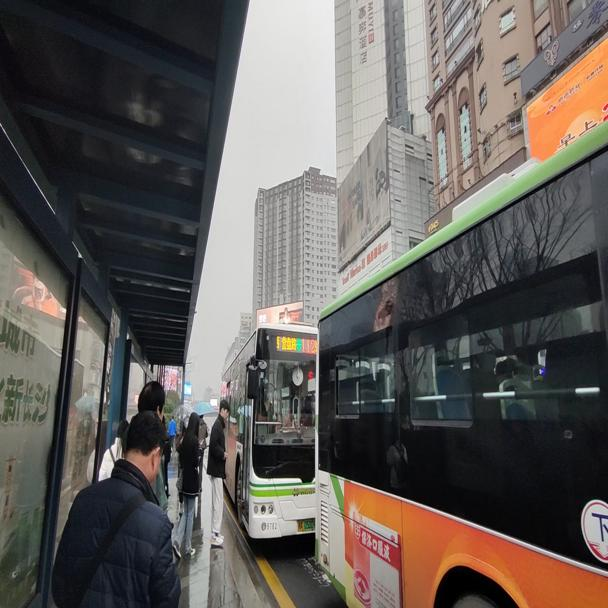bus: (318, 118, 607, 605), (215, 319, 315, 542)
screen: (301, 338, 314, 352)
